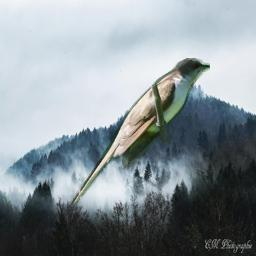Cuckoo: (71, 58, 210, 206)
